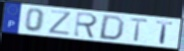0: (24, 7, 46, 34)
D: (97, 14, 127, 42)
R: (72, 11, 100, 40)
T: (128, 17, 151, 43), (155, 20, 175, 45)
Z: (47, 9, 73, 36)
